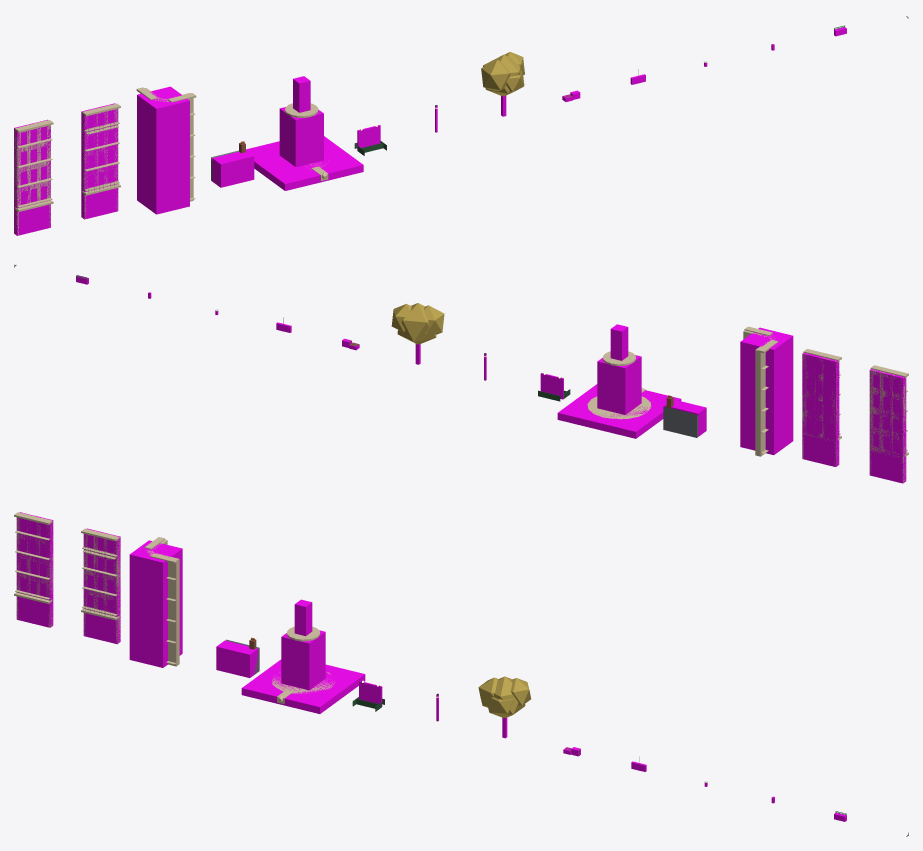
File: paris_kit.glb
3 views of the same model, one above another, from view 1: azimuth 30°, elevation 25°; view 2: azimuth 150°, elevation 25°; view 3: azimuth 330°, elevation 25° (orthographic).
Visible parts, largest first — view 1: col_facade_corner, col_monument, col_facade_B, col_facade_A, facade_A, facade_B, plane_tree, col_mansard_roof, facade_corner, monument; view 2: col_monument, col_facade_corner, col_facade_B, col_facade_A, facade_A, plane_tree, facade_corner, mansard_roof, monument, facade_B, col_mansard_roof, col_metro_arch; view 3: col_monument, col_facade_corner, col_facade_A, col_facade_B, facade_B, facade_A, plane_tree, facade_corner, col_mansard_roof, monument.
Part boxes in pixels (<box>): col_facade_corner: <box>137,86,189,214</box>; col_monument: <box>246,76,363,190</box>; col_facade_B: <box>81,103,118,219</box>; col_facade_A: <box>14,119,50,235</box>; facade_A: <box>14,120,53,234</box>; facade_B: <box>81,103,120,218</box>; plane_tree: <box>481,52,524,96</box>; col_mansard_roof: <box>212,150,254,187</box>; facade_corner: <box>136,87,196,201</box>; monument: <box>285,103,328,180</box>; col_monument: <box>557,324,681,438</box>; col_facade_corner: <box>740,327,793,454</box>; col_facade_B: <box>802,353,839,466</box>; col_facade_A: <box>869,369,906,483</box>; facade_A: <box>869,365,908,482</box>; plane_tree: <box>391,303,444,344</box>; facade_corner: <box>743,326,778,456</box>; mansard_roof: <box>663,395,698,437</box>; monument: <box>587,351,651,419</box>; facade_B: <box>802,349,841,466</box>; col_mansard_roof: <box>664,399,706,436</box>; col_metro_arch: <box>540,373,563,399</box>; col_monument: <box>241,599,365,713</box>; col_facade_corner: <box>129,540,182,667</box>; col_facade_A: <box>16,512,53,627</box>; col_facade_B: <box>83,528,120,644</box>; facade_B: <box>81,528,120,642</box>; facade_A: <box>14,512,53,627</box>; plane_tree: <box>478,676,531,717</box>; facade_corner: <box>144,537,179,666</box>; col_mansard_roof: <box>216,640,258,677</box>; monument: <box>272,626,334,704</box>.
Size of the model in its own units: 159 by 18.42 by 14.47.
